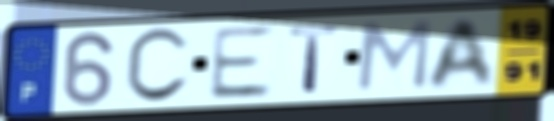6: (60, 29, 117, 109)
A: (423, 16, 498, 92)
C: (122, 25, 193, 107)
E: (205, 23, 275, 102)
M: (353, 18, 434, 93)
T: (286, 23, 342, 95)
